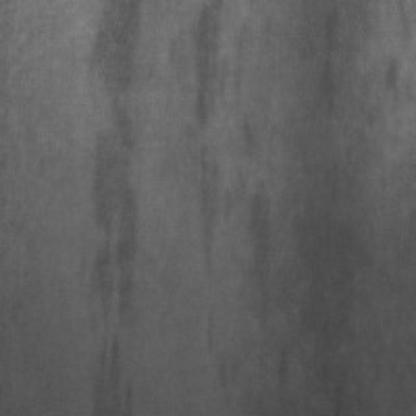inclusion: (70, 0, 146, 412), (180, 0, 245, 287), (291, 0, 352, 137), (235, 179, 281, 341), (87, 328, 138, 412)
